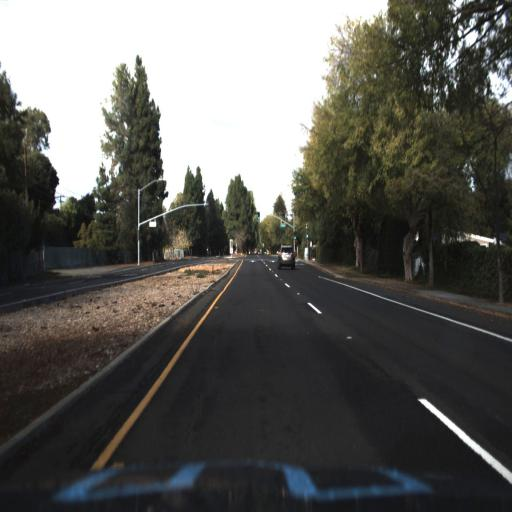car: (277, 244, 296, 271)
trafficLight-Green: (302, 228, 310, 246), (291, 231, 298, 246), (255, 210, 261, 226)
